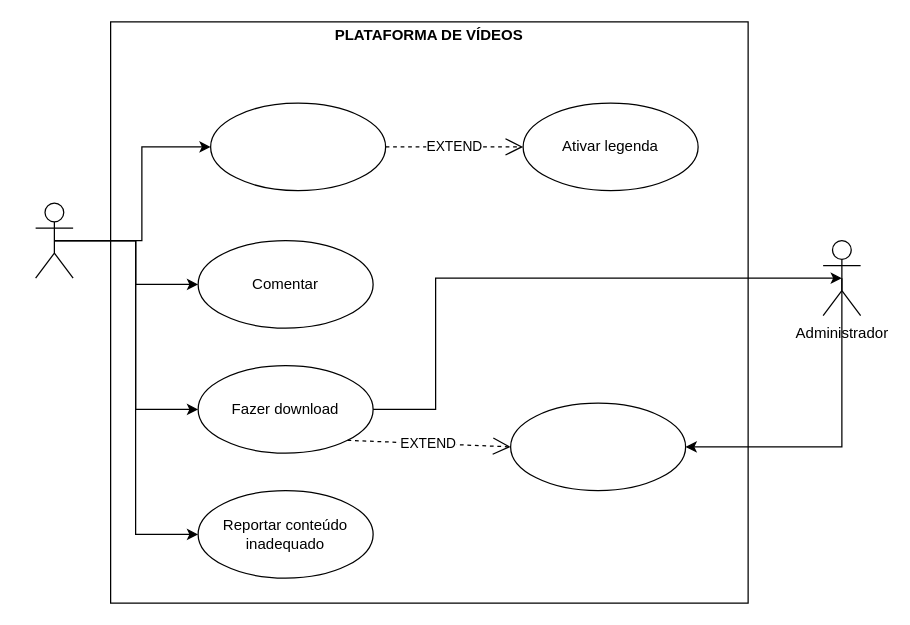
This 910x625 diagram has some shape labels left out. The centre of each missing label's shape, as x and y in pixels:
Assinante: point 53,240
Reproduzir vídeo: point 297,146
Verificar assinatura premium: point 597,446
